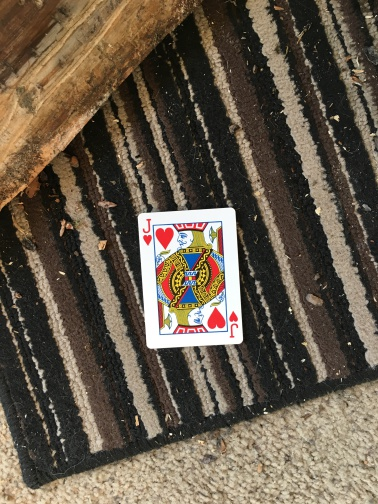jack: (136, 205, 245, 349)
